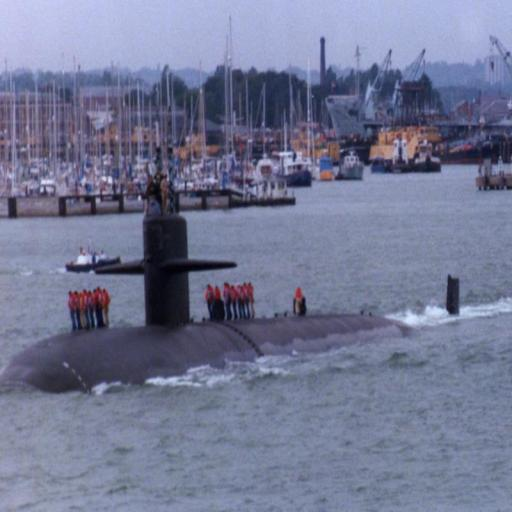submarine: (2, 214, 462, 401)
